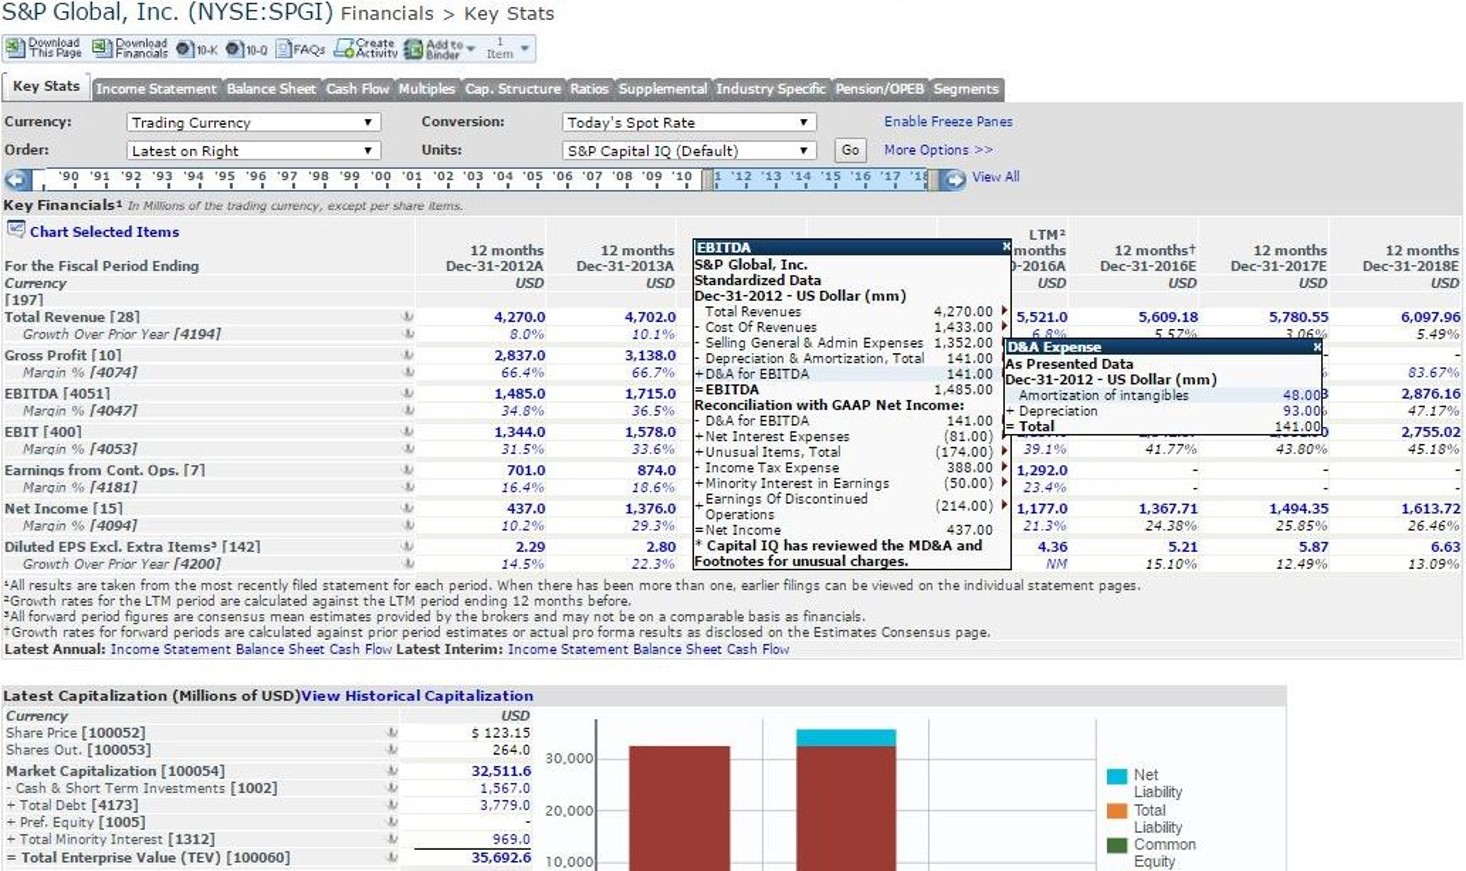block: (1, 684, 1286, 871), (1, 104, 1462, 214), (1, 77, 1005, 101), (1, 34, 537, 62)
button: (835, 137, 867, 162)
chart: (537, 707, 1206, 871), (3, 168, 966, 192)
form: (126, 112, 382, 134), (563, 140, 815, 161), (128, 141, 382, 161), (564, 111, 814, 131)
icon: (330, 34, 357, 62), (1, 34, 27, 61), (401, 34, 425, 63), (222, 34, 246, 61), (272, 35, 294, 62), (2, 217, 29, 240), (89, 36, 114, 60), (174, 36, 197, 61), (971, 141, 1000, 158), (396, 534, 420, 554), (397, 555, 420, 573), (519, 34, 535, 61), (795, 141, 817, 160), (396, 343, 417, 362), (795, 113, 818, 130), (396, 382, 416, 400), (397, 496, 417, 514), (398, 458, 417, 477), (380, 812, 400, 830), (464, 36, 479, 60), (396, 515, 417, 532), (382, 794, 400, 812), (383, 830, 400, 848), (382, 847, 400, 865), (397, 362, 416, 380), (397, 420, 415, 439), (360, 141, 379, 158), (398, 476, 416, 494), (360, 114, 378, 131), (397, 307, 416, 324), (383, 760, 400, 777), (398, 324, 415, 341), (382, 779, 400, 794), (397, 401, 416, 417), (399, 440, 416, 456), (383, 741, 398, 757), (385, 724, 398, 740)
table: (2, 215, 1466, 655), (2, 707, 530, 871)
